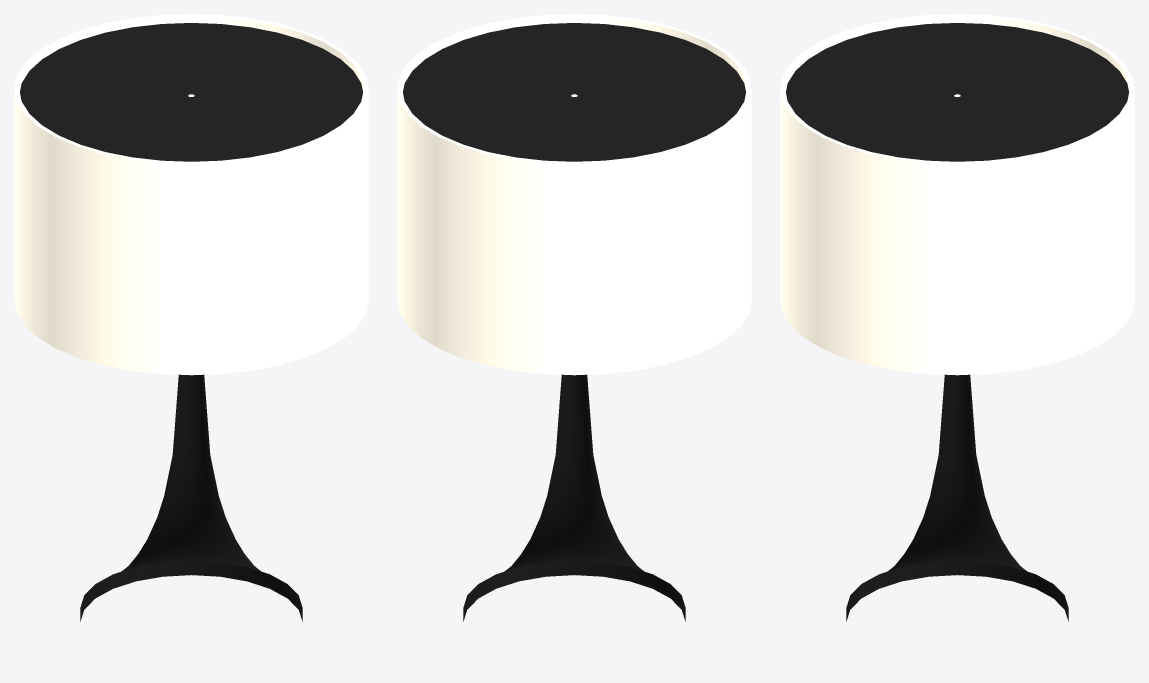
File: lamp.fbx
3 renders of one model, left to right at view 1: azimuth 30°, elevation 25°; view 2: azimuth 150°, elevation 25°; view 3: azimuth 270°, elevation 25°, orthographic.
Parts seen in each view (by area): view 1: Tube, Lathe_1; view 2: Tube, Lathe_1; view 3: Tube, Lathe_1.
Boxes of the visible parts, x1=… form: Tube: x1=14, y1=14, x2=368, y2=375; Lathe_1: x1=80, y1=374, x2=302, y2=621; Tube: x1=397, y1=14, x2=751, y2=375; Lathe_1: x1=463, y1=374, x2=685, y2=621; Tube: x1=780, y1=14, x2=1134, y2=375; Lathe_1: x1=846, y1=374, x2=1068, y2=621.
Size of the model in its own units: 301 by 499 by 301.
